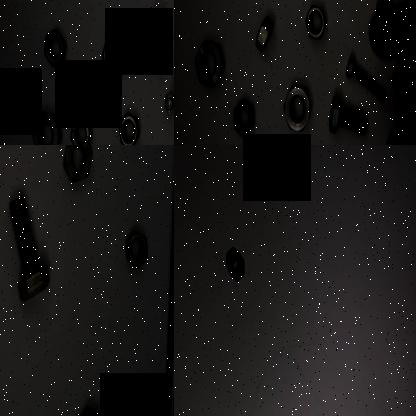Bolts: (4, 191, 54, 311), (344, 55, 390, 109), (327, 92, 373, 144), (142, 10, 170, 66), (162, 88, 174, 122)
NUTS: (57, 145, 103, 200), (280, 80, 317, 142), (194, 31, 228, 91), (38, 18, 70, 68), (28, 106, 66, 145), (230, 93, 258, 145), (300, 0, 330, 48), (124, 222, 150, 277), (252, 0, 276, 58), (63, 391, 114, 416), (98, 35, 124, 84), (68, 112, 96, 145), (116, 107, 140, 145), (228, 250, 248, 284)
